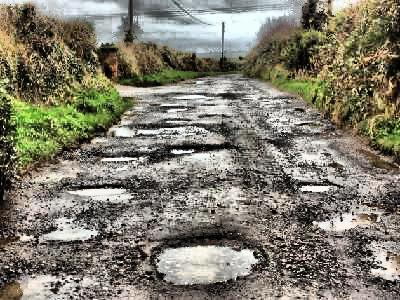pothole: (150, 232, 268, 286), (2, 268, 89, 300), (307, 207, 378, 230), (37, 217, 103, 241), (364, 243, 399, 283), (161, 141, 234, 155), (65, 183, 127, 195), (297, 179, 342, 191), (100, 152, 138, 164), (298, 119, 324, 131), (109, 125, 134, 136), (158, 104, 191, 112), (174, 92, 207, 100)
